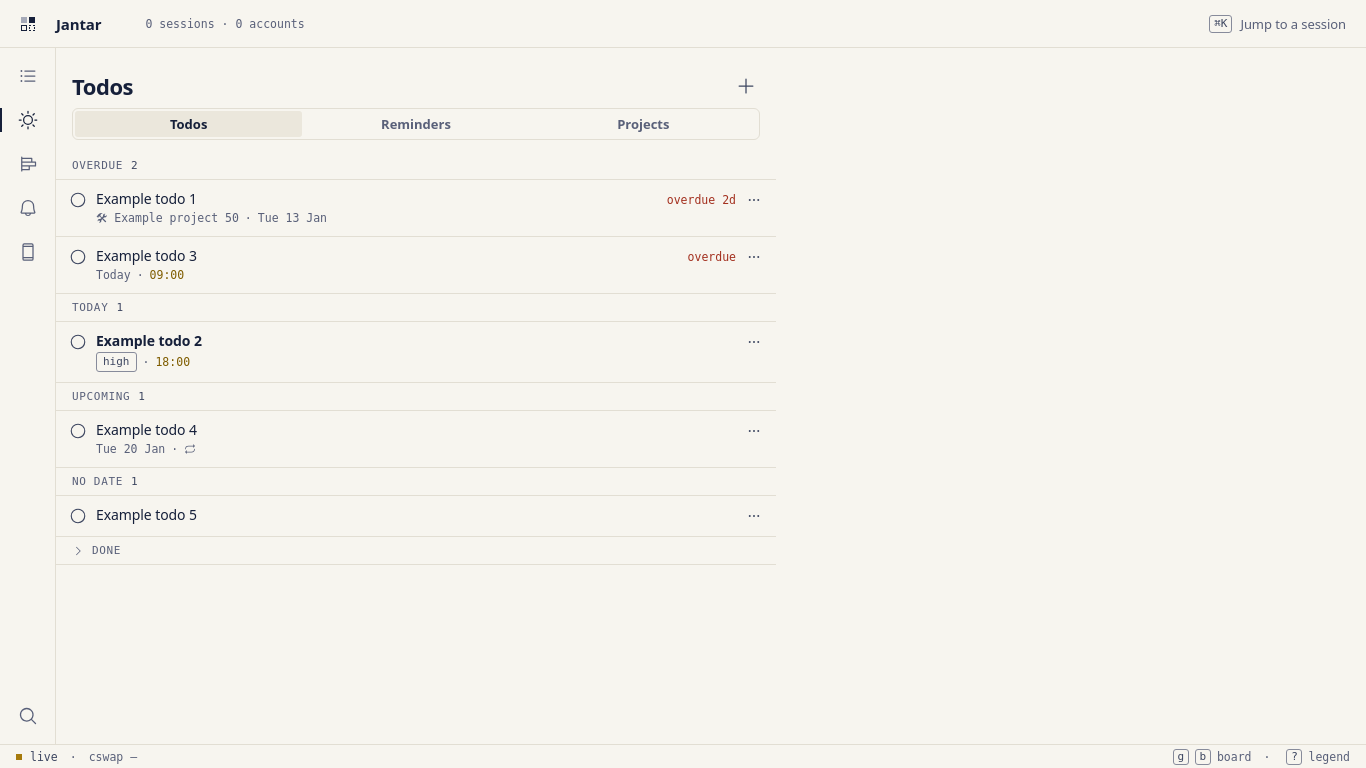
Test: Todos: the list › a second Delete sends the first at once; a delete that fails brings its row back with Not saved
Click the button named "Actions for Example todo 4".
click(754, 431)  # box [740,417,768,445]
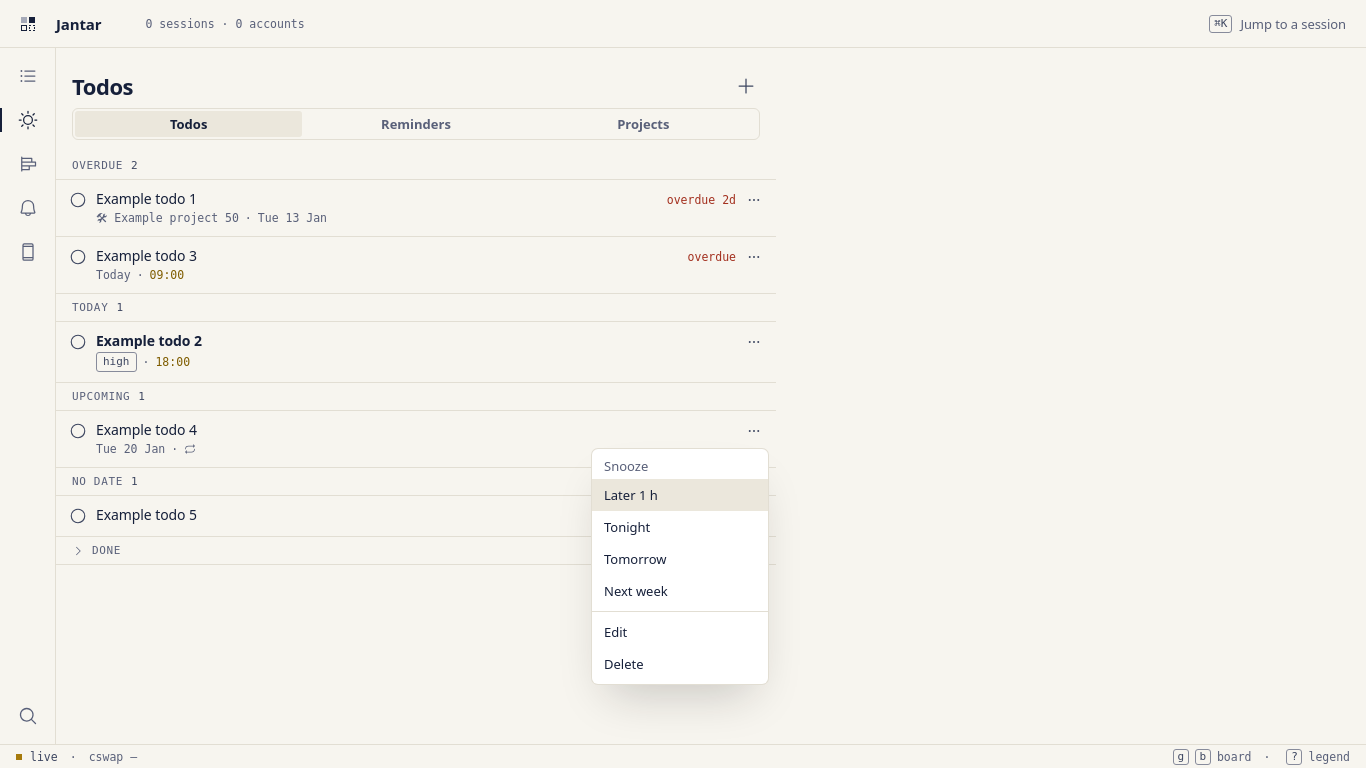
Click the menu item "Delete".
click(624, 664)  # box [604,655,644,673]
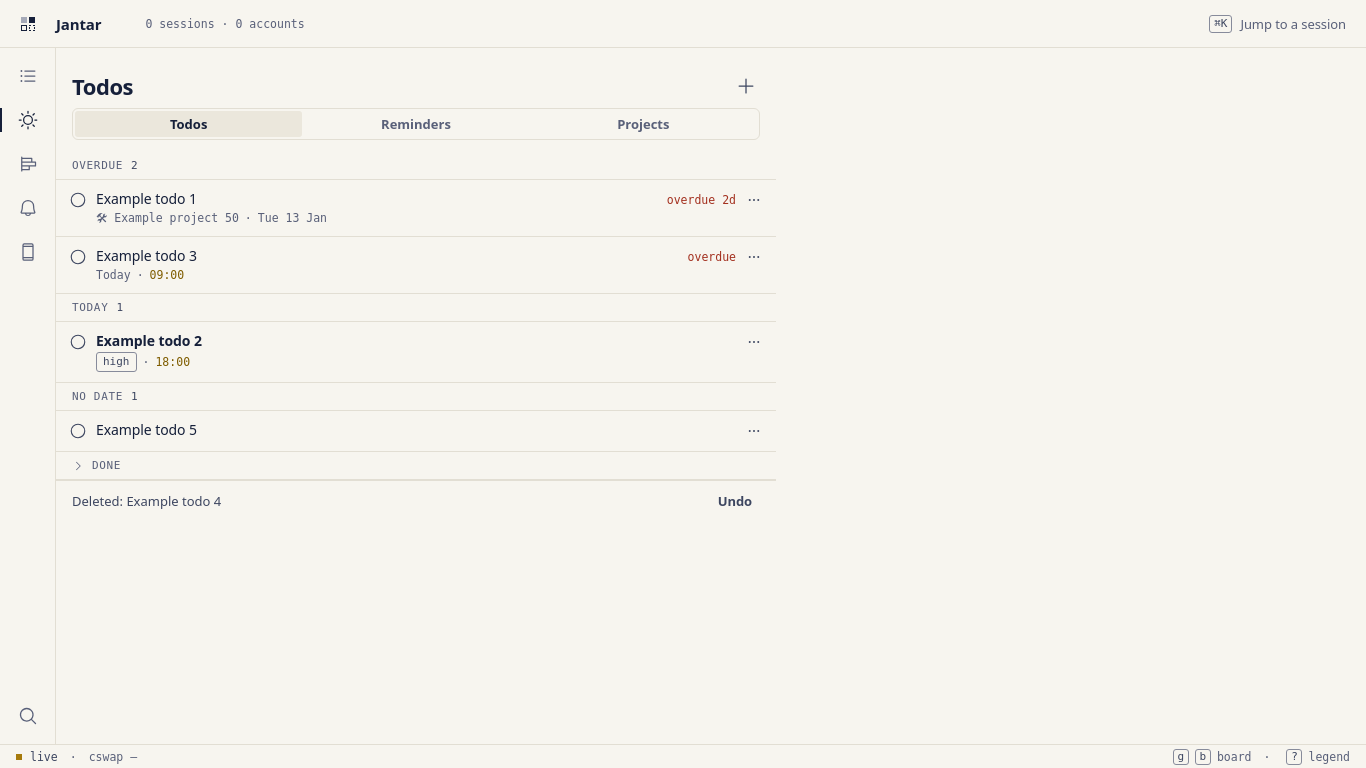
Click the button named "Actions for Example todo 5".
click(754, 431)  # box [740,417,768,445]
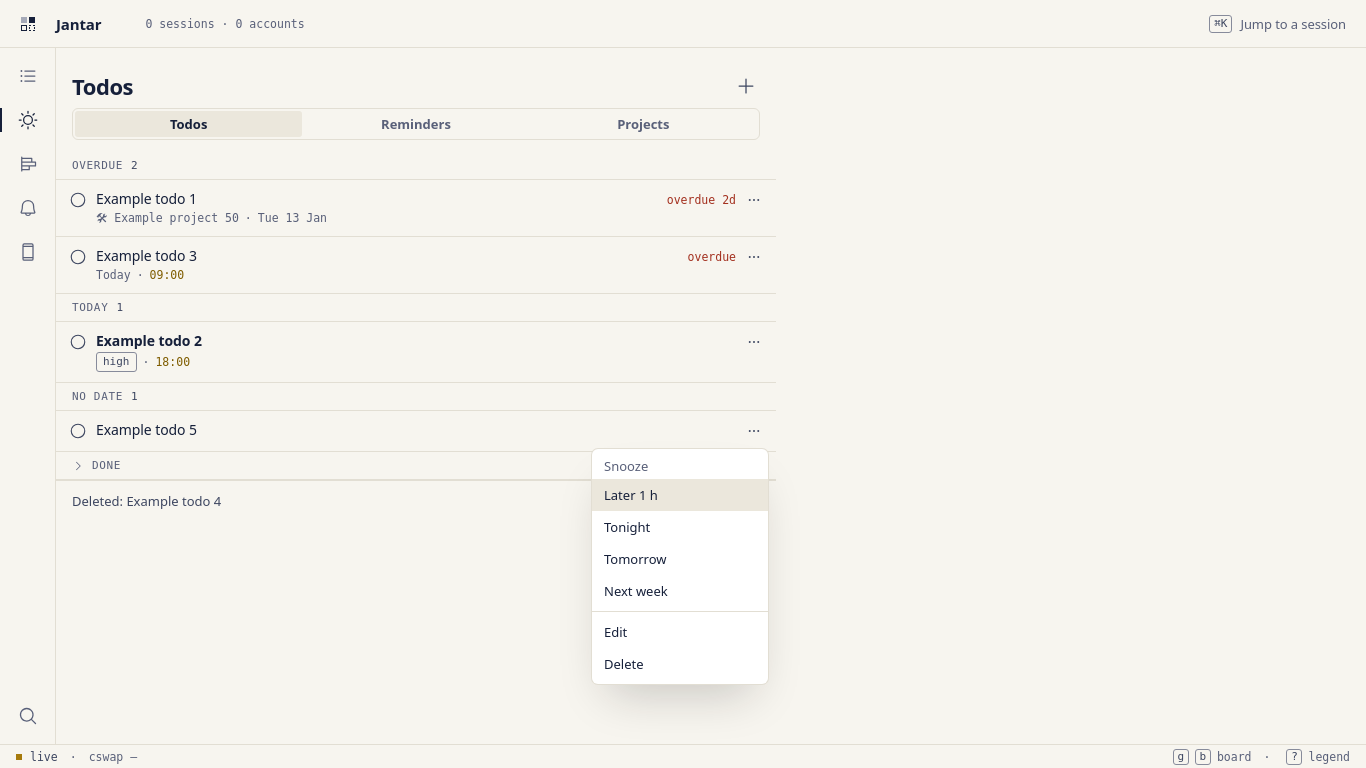
Click the menu item "Delete".
click(624, 664)  # box [604,655,644,673]
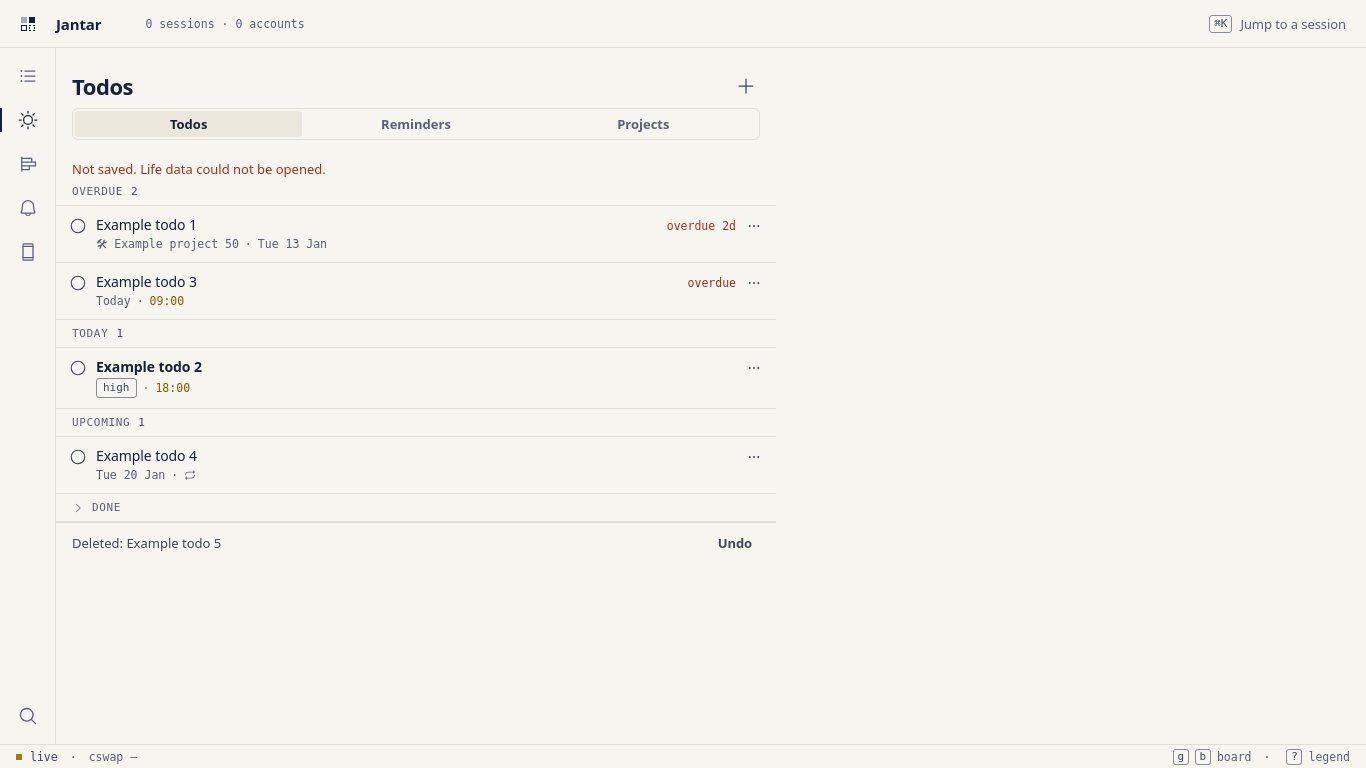
Expected: the text "Example todo 4" is shown, [96,446,197,465]
Expected: the message "Not saved. Life data could not be opened." is shown, [72,160,326,178]
Expected: the text "Deleted: Example todo 5" is shown, [72,534,221,552]
